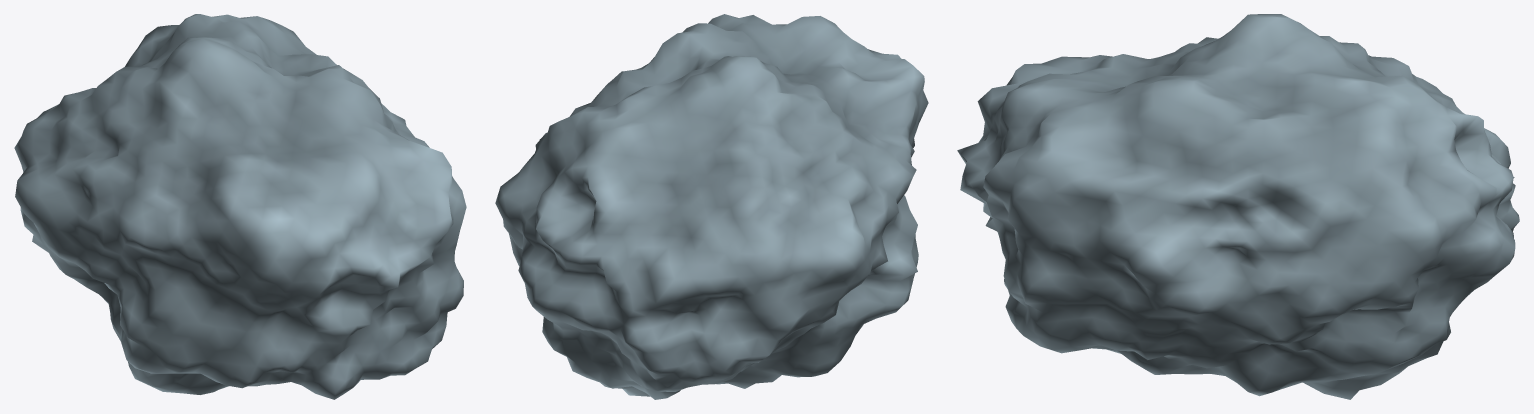
The model's file is ice-fragment.glb.
3 renders of one model, left to right at view 1: azimuth 30°, elevation 25°; view 2: azimuth 150°, elevation 25°; view 3: azimuth 270°, elevation 25°, orthographic. The views are drawn at different scales.
Visible parts, largest first — view 1: Exora ice-fragment; view 2: Exora ice-fragment; view 3: Exora ice-fragment.
Boxes of the visible parts, x1,y1,x2,y2 form: Exora ice-fragment: [14, 14, 466, 399]; Exora ice-fragment: [495, 14, 928, 399]; Exora ice-fragment: [957, 14, 1519, 399].
Bounding box in the file's own units: 1.77 × 1.62 × 2.38.
